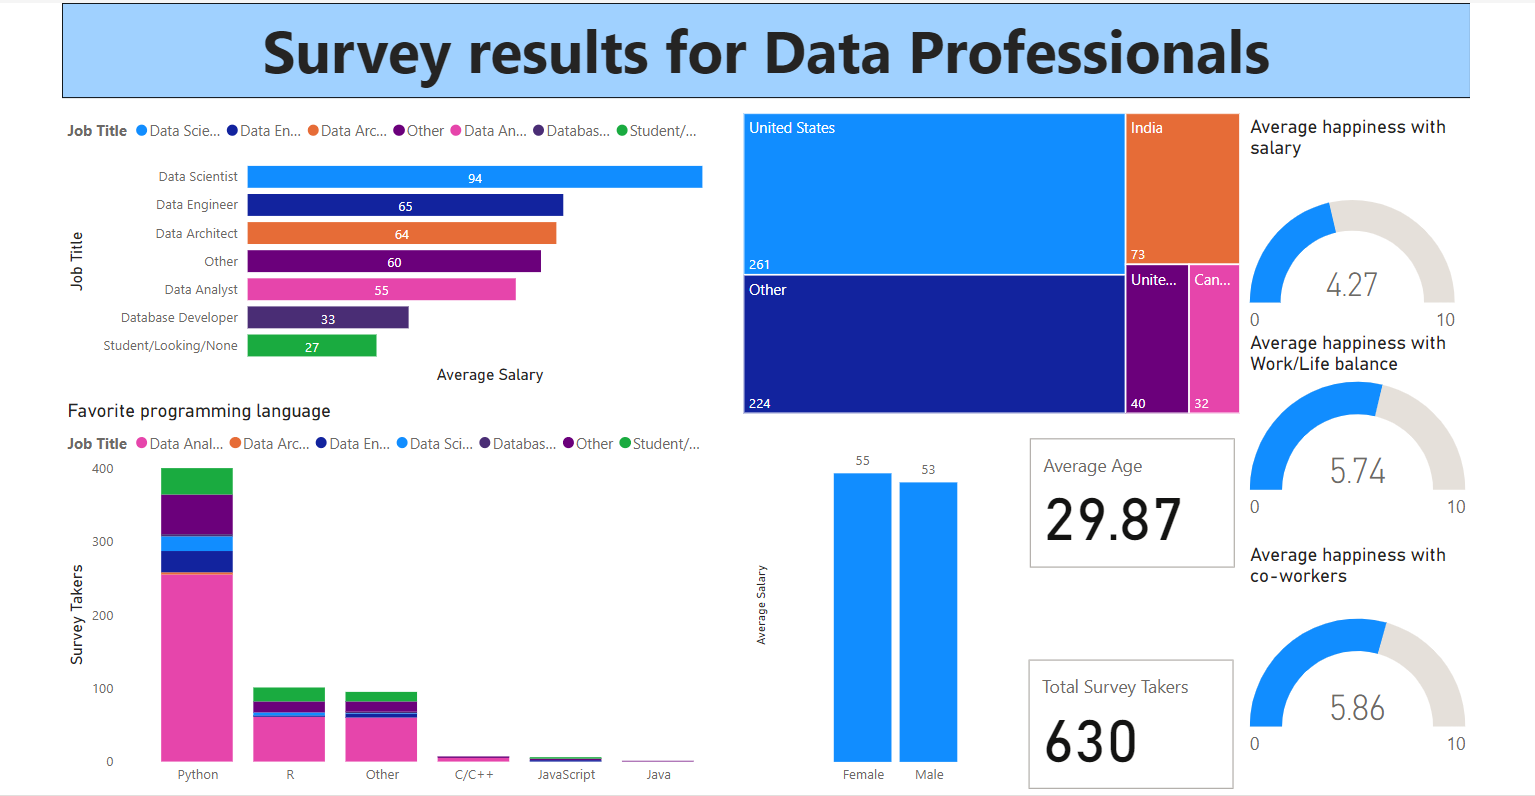

The dashboard page shown, as its layout file describes it:
{"tool":"powerbi","page":{"name":"Page 1","canvas":[1280,720],"ordinal":0},"visuals":[{"type":"textbox","box":[9.6,0,1271,115.2],"z":0},{"type":"textbox","box":[0,0,1280.4,86],"z":1000},{"type":"cardVisual","fields":{"Data":["Count(Data Professional Survey.Unique ID)"]},"box":[873.4,592.3,196.1,127.5],"z":2000},{"type":"cardVisual","fields":{"Data":["Avg(Data Professional Survey.Q10 - Current Age)"]},"box":[874.7,390.7,196.1,127.5],"z":3000},{"type":"barChart","fields":{"Category":["Data Professional Survey.Q1 - Which Title Best Fits your Current Role?.1"],"Y":["Avg(Data Professional Survey.Average Salary)"],"Series":["Data Professional Survey.Q1 - Which Title Best Fits your Current Role?.1"]},"box":[0,96,614.2,255],"z":4000},{"type":"columnChart","title":"Favorite programming language","fields":{"Category":["Data Professional Survey.Q5 - Favorite Programming Language.1"],"Y":["CountNonNull(Data Professional Survey.Unique ID)"],"Series":["Data Professional Survey.Q1 - Which Title Best Fits your Current Role?.1"]},"box":[0,360.6,614.2,359.2],"z":5000},{"type":"treemap","fields":{"Group":["Data Professional Survey.Q11 - Which Country do you live in?.1"],"Values":["CountNonNull(Data Professional Survey.Q11 - Which Country do you live in?.1)"]},"box":[614.2,96,460.7,282.4],"z":6000},{"type":"gauge","title":"Average happiness with co-workers","fields":{"Y":["Avg(Data Professional Survey.Q6 - How Happy are you in your Current Position with the following? (Coworkers))"],"MinValue":["Min(Data Professional Survey.Q6 - How Happy are you in your Current Position with the following? (Coworkers))"],"MaxValue":["Max(Data Professional Survey.Q6 - How Happy are you in your Current Position with the following? (Coworkers))1"]},"box":[1074.9,490.8,205.7,229],"z":7000},{"type":"gauge","title":"Average happiness with salary","fields":{"Y":["Avg(Data Professional Survey.Q6 - How Happy are you in your Current Position with the following? (Salary))"],"MinValue":["Min(Data Professional Survey.Q6 - How Happy are you in your Current Position with the following? (Salary))"],"MaxValue":["Max(Data Professional Survey.Q6 - How Happy are you in your Current Position with the following? (Salary))1"]},"box":[1074.9,102.8,196.1,239.9],"z":8000},{"type":"columnChart","fields":{"Category":["Data Professional Survey.Q9 - Male/Female?"],"Y":["Avg(Data Professional Survey.Average Salary)"]},"box":[614.2,390.7,259.1,329.1],"z":9000},{"type":"gauge","title":"Average happiness with Work/Life balance","fields":{"Y":["Avg(Data Professional Survey.Q6 - How Happy are you in your Current Position with the following? (Work/Life Balance))"],"MinValue":["Min(Data Professional Survey.Q6 - How Happy are you in your Current Position with the following? (Work/Life Balance))"],"MaxValue":["Max(Data Professional Survey.Q6 - How Happy are you in your Current Position with the following? (Work/Life Balance))"]},"box":[1074.9,298.9,205.7,182.3],"z":10000}]}

Visuals, with their boxes on the page's 1280x720 design canvas (x1, y1, x2, y2). These are canvas units, not pixel positions in the 1535x796 screenshot, which may show the page scaled, cropped or inside an application window:
textbox: {"x1": 10, "y1": 0, "x2": 1281, "y2": 115}
textbox: {"x1": 0, "y1": 0, "x2": 1280, "y2": 86}
cardVisual - Count(Data Professional Survey.Unique ID): {"x1": 873, "y1": 592, "x2": 1070, "y2": 720}
cardVisual - Avg(Data Professional Survey.Q10 - Current Age): {"x1": 875, "y1": 391, "x2": 1071, "y2": 518}
barChart - Data Professional Survey.Q1 - Which Title Best Fits your Current Role?.1 x Avg(Data Professional Survey.Average Salary): {"x1": 0, "y1": 96, "x2": 614, "y2": 351}
"Favorite programming language" columnChart: {"x1": 0, "y1": 361, "x2": 614, "y2": 720}
treemap - Data Professional Survey.Q11 - Which Country do you live in?.1 x CountNonNull(Data Professional Survey.Q11 - Which Country do you live in?.1): {"x1": 614, "y1": 96, "x2": 1075, "y2": 378}
"Average happiness with co-workers" gauge: {"x1": 1075, "y1": 491, "x2": 1281, "y2": 720}
"Average happiness with salary" gauge: {"x1": 1075, "y1": 103, "x2": 1271, "y2": 343}
columnChart - Data Professional Survey.Q9 - Male/Female? x Avg(Data Professional Survey.Average Salary): {"x1": 614, "y1": 391, "x2": 873, "y2": 720}
"Average happiness with Work/Life balance" gauge: {"x1": 1075, "y1": 299, "x2": 1281, "y2": 481}
